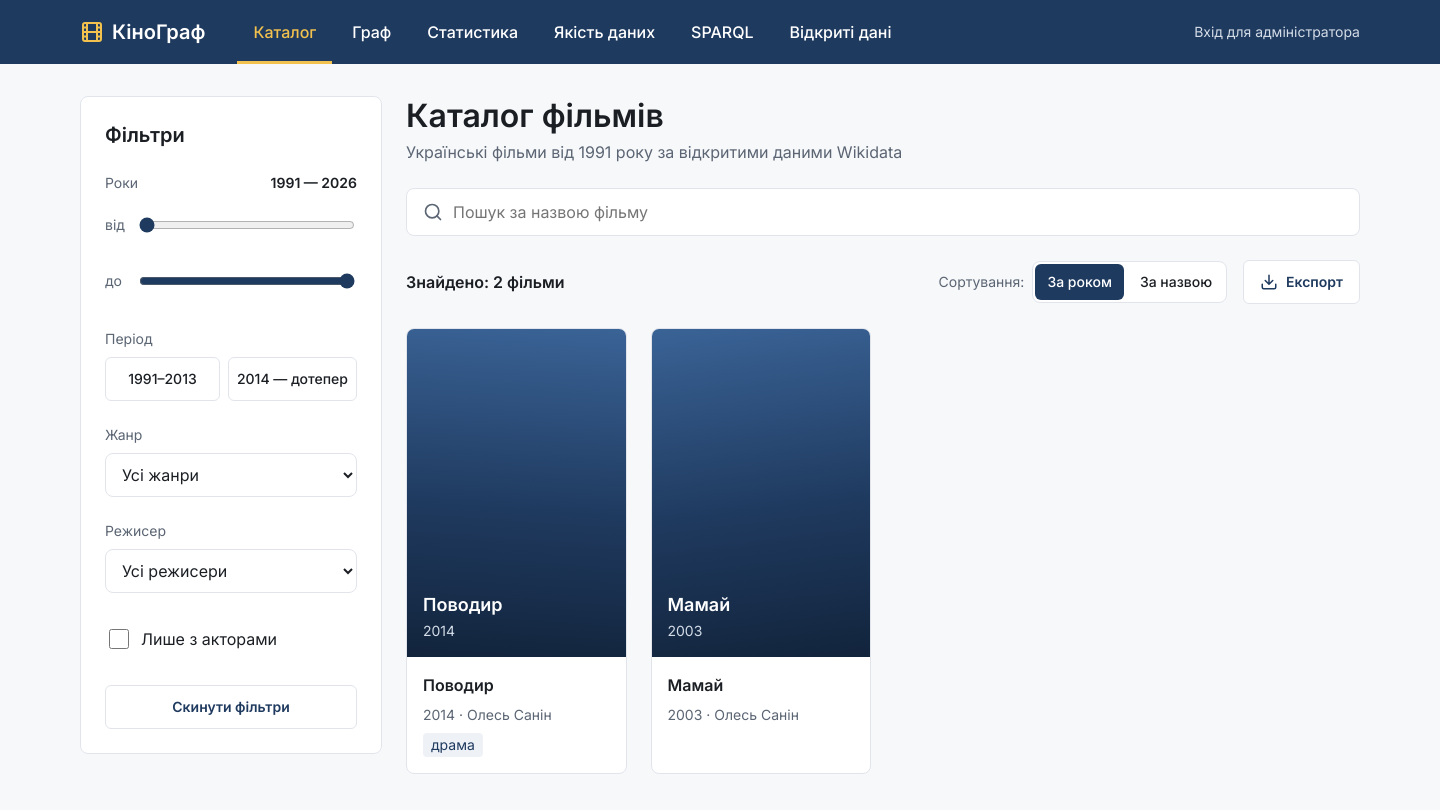
Test: каталог › показує помилку експорту замість збереження файлу з помилкою
The image size is (1440, 810).
What coordinates should you click on to do the following:
click the button "Експорт"
I would click on:
 (1302, 282)
Its box is [1243,260,1360,304].
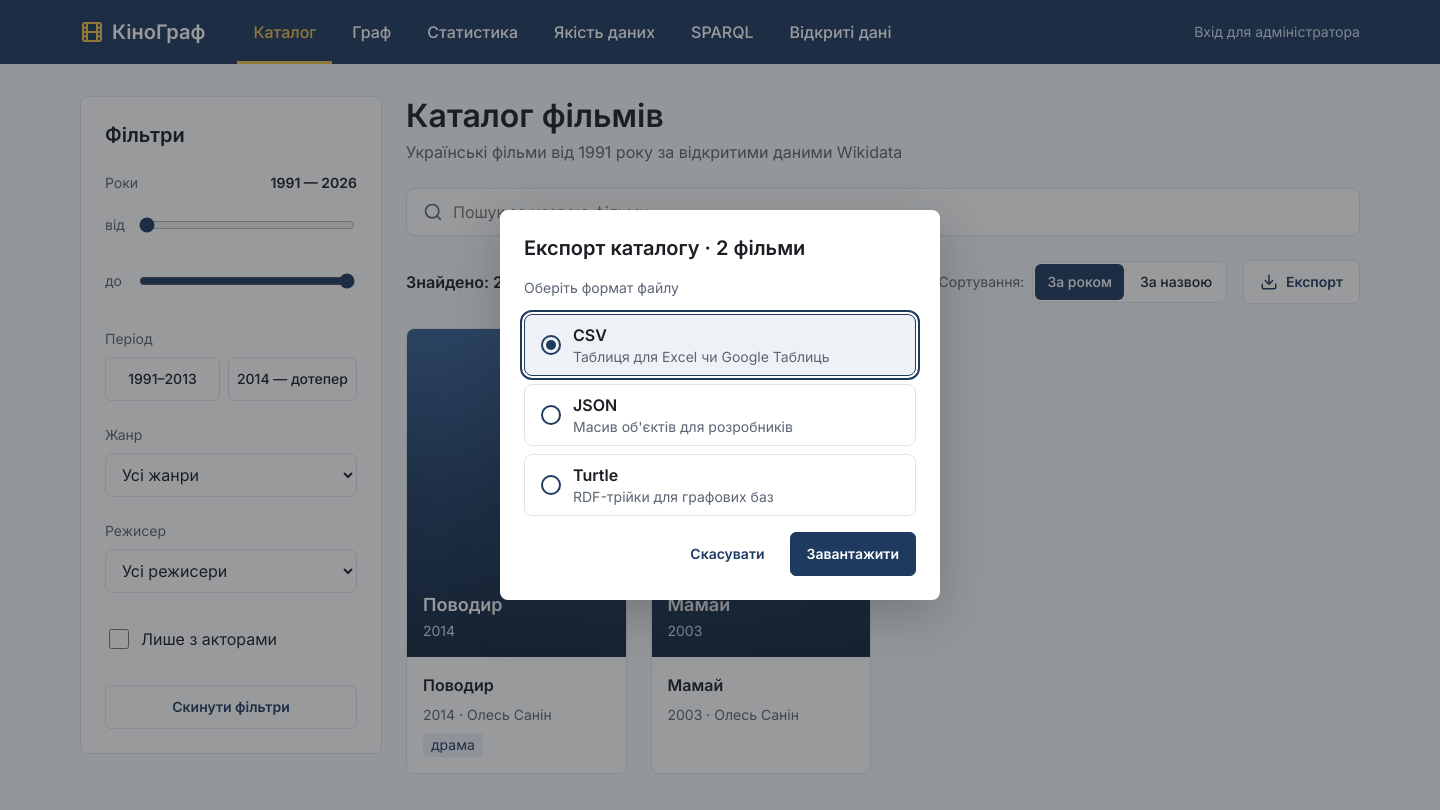
What coordinates should you click on to do the following:
click the button "Завантажити"
I would click on:
 (853, 554)
Its box is [790,532,916,576].
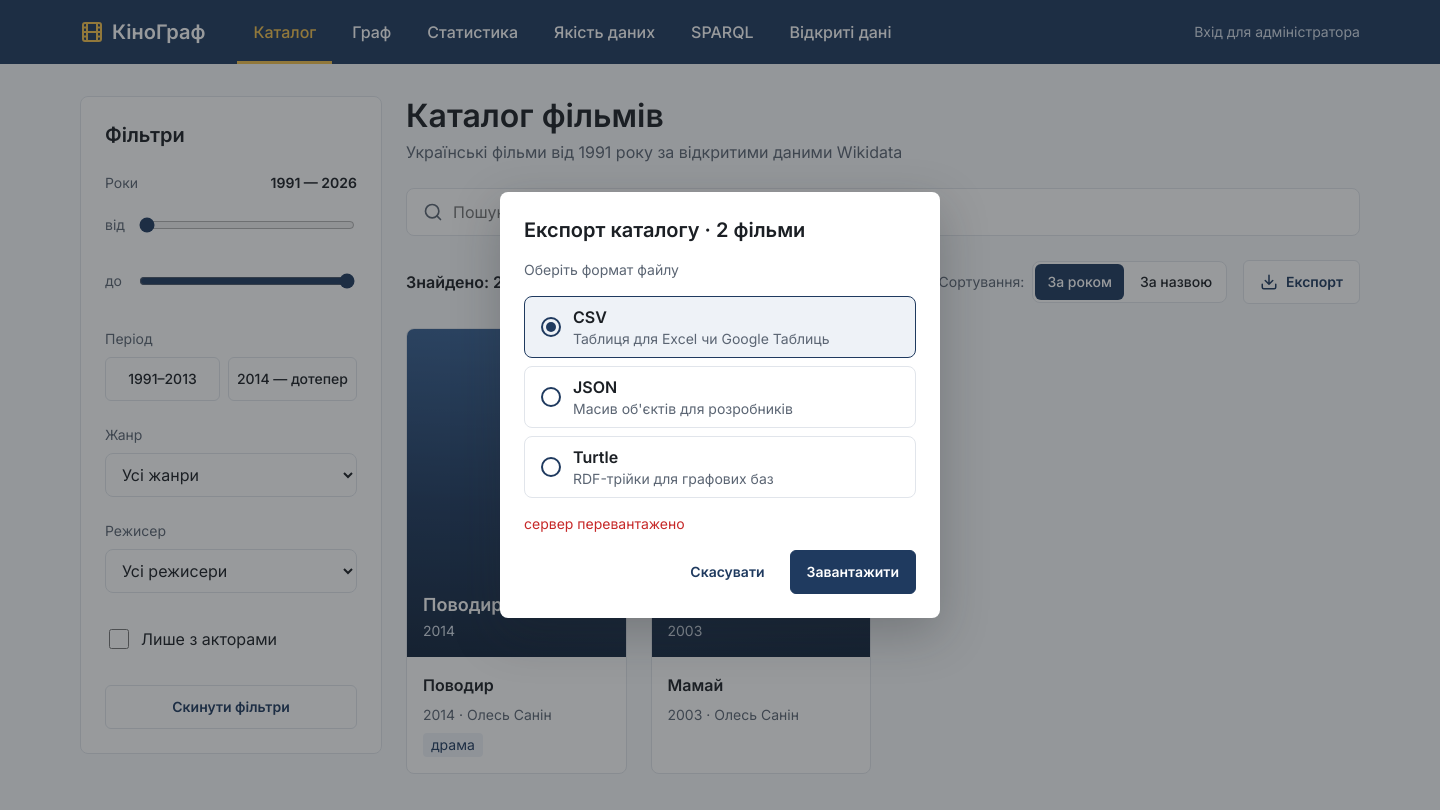
Result: the message reads "сервер перевантажено" at [524,515,685,532]
